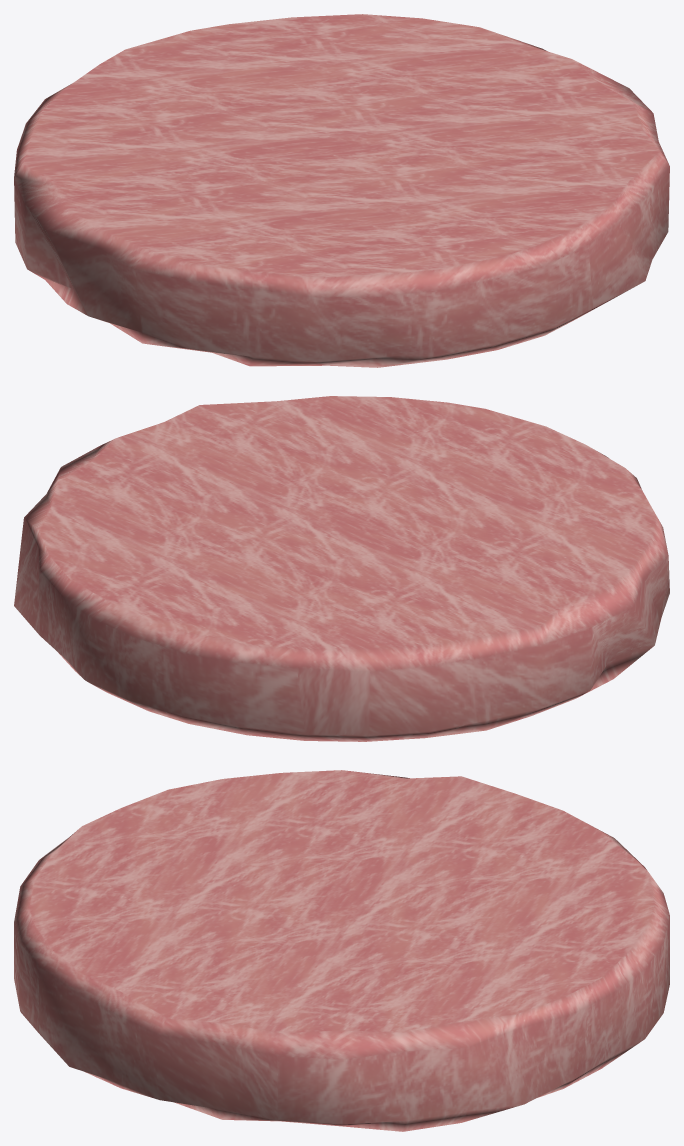
Rendered from MeatPattyUncooked_Visual.glb.
3 renders of one model, top to bottom at view 1: azimuth 30°, elevation 25°; view 2: azimuth 150°, elevation 25°; view 3: azimuth 270°, elevation 25°, orthographic. The views are drawn at different scales.
Visible parts, largest first — view 1: Uncooked_meat_patty; view 2: Uncooked_meat_patty; view 3: Uncooked_meat_patty.
Part boxes in pixels (bbox=[...]): Uncooked_meat_patty: bbox=[14, 14, 669, 367]; Uncooked_meat_patty: bbox=[14, 396, 669, 741]; Uncooked_meat_patty: bbox=[14, 770, 669, 1131].
Bounding box in the file's own units: 0.7156 × 0.1083 × 0.691.
Materials: 1 (1 with a texture image).
